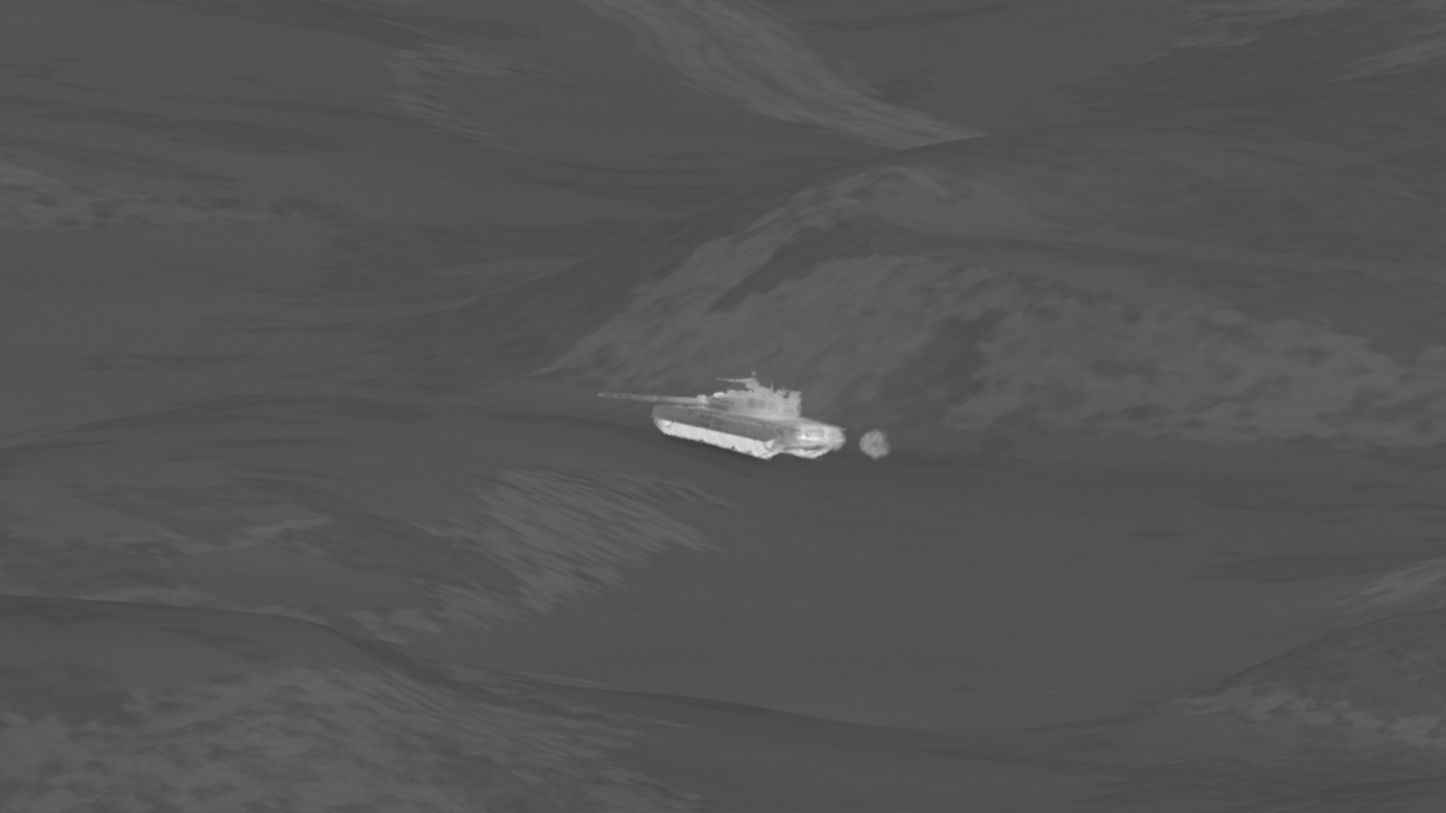t-80u: (595, 376, 849, 460)
